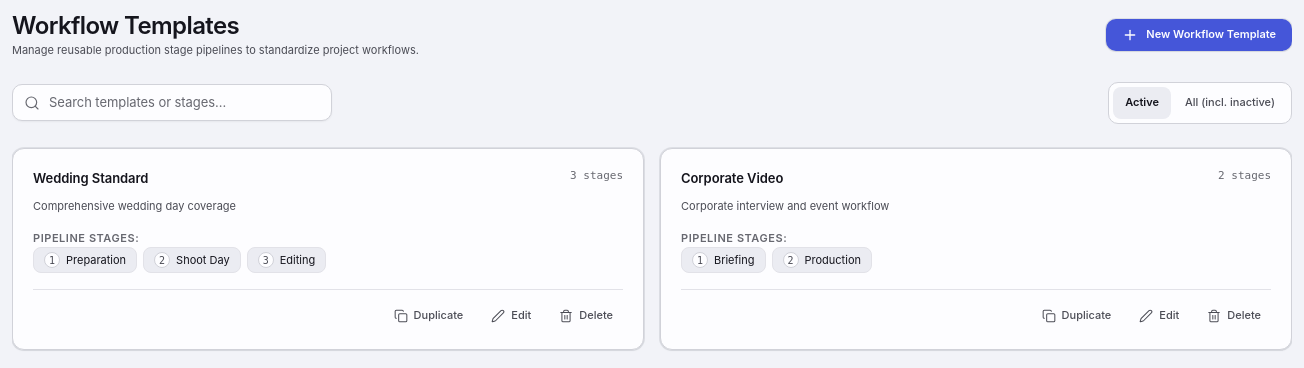
Scenario: WorkflowTemplatesList (WORKFLOW-REQ-001) › filters templates using search input
Check: the heading "Wedding Standard" is shown, box [33, 169, 148, 187]
Type "Corporate" into the field with placeholder "Search templates or stages..." at (172, 103), box [12, 84, 332, 121]
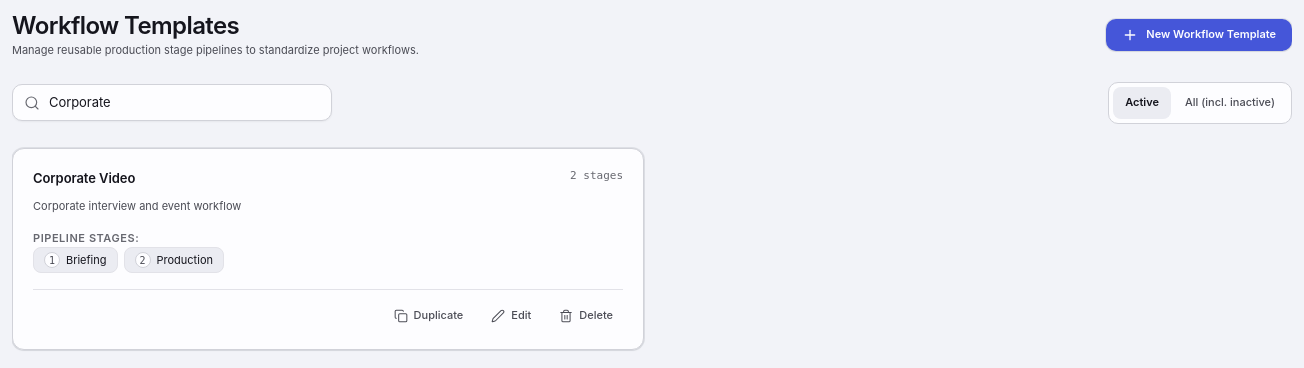
Check: the heading "Corporate Video" is shown, box [33, 169, 135, 187]
Check: the heading "Wedding Standard" is gone
